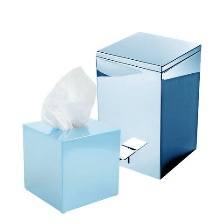tissue: (32, 59, 102, 135)
